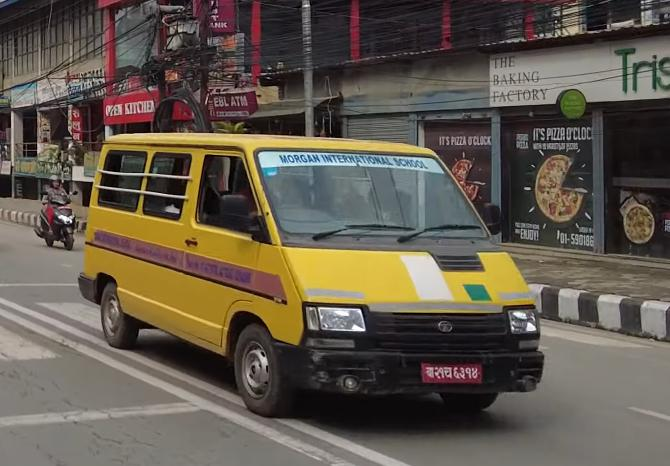school_bus: (79, 129, 547, 425)
scooter: (36, 187, 77, 252)
